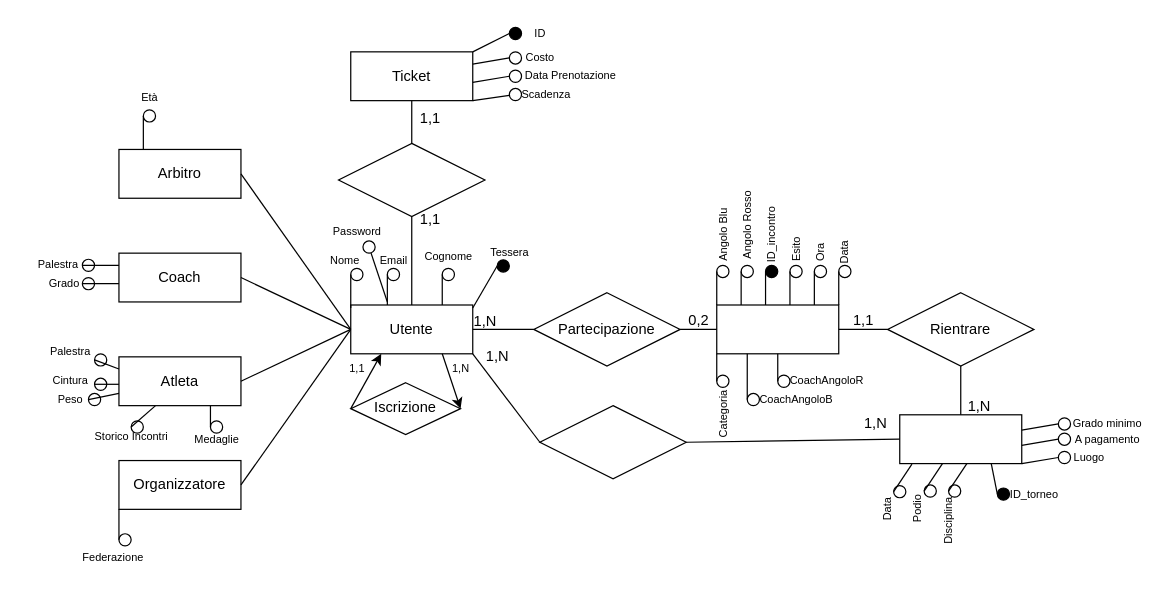
This 1176x590 diagram has some shape labels left out. Here are the shapes that lost their labels. From the top down, the box of each, then its label:
(337, 142, 485, 217): Prenotazione
(716, 304, 839, 354): Incontro
(539, 404, 686, 479): Organizzazione
(899, 414, 1022, 464): Torneo
